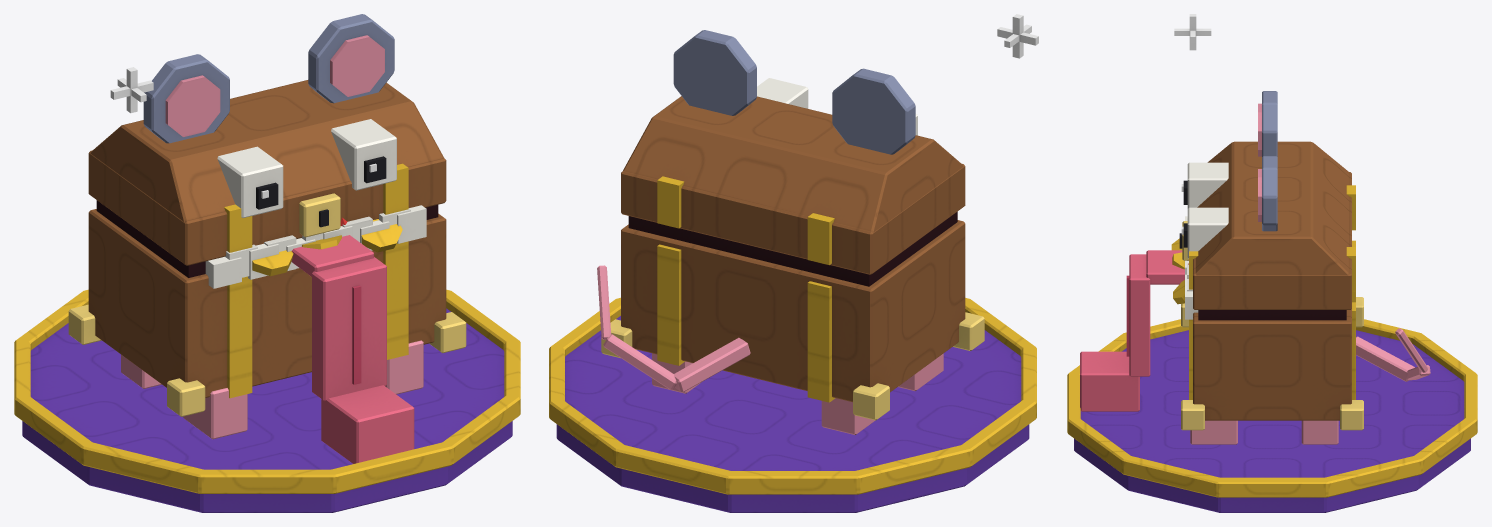
Rendered from RatMimic.fbx.
3 renders of one model, left to right at view 1: azimuth 30°, elevation 25°; view 2: azimuth 150°, elevation 25°; view 3: azimuth 270°, elevation 25°, orthographic. The views are drawn at different scales.
Visible parts, largest first — view 1: Art_RatMimic_Stand, Art_RatMimic_Body, Art_RatMimic_Lid, Art_RatMimic_Tongue, Art_RatMimic_EarR, Art_RatMimic_EarL, Art_RatMimic_EyeR, Art_RatMimic_EyeL, Art_RatMimic_LegFL, Art_RatMimic_LegFR, Art_RatMimic_LegBL; view 2: Art_RatMimic_Stand, Art_RatMimic_Body, Art_RatMimic_Lid, Art_RatMimic_EarL, Art_RatMimic_EarR, Art_RatMimic_Tail, Art_RatMimic_LegBL, Art_RatMimic_EyeR, Art_RatMimic_LegFL; view 3: Art_RatMimic_Stand, Art_RatMimic_Lid, Art_RatMimic_Body, Art_RatMimic_Tongue, Art_RatMimic_Tail, Art_RatMimic_EyeL, Art_RatMimic_EyeR, Art_RatMimic_EarR, Art_RatMimic_EarL, Art_RatMimic_LegFR, Art_RatMimic_LegBR.
Boxes of the visible parts, bbox=[...] form: Art_RatMimic_Stand: bbox=[14, 67, 520, 512]; Art_RatMimic_Body: bbox=[68, 200, 466, 416]; Art_RatMimic_Lid: bbox=[88, 80, 446, 277]; Art_RatMimic_Tongue: bbox=[291, 235, 414, 463]; Art_RatMimic_EarR: bbox=[308, 14, 394, 103]; Art_RatMimic_EarL: bbox=[143, 54, 229, 143]; Art_RatMimic_EyeR: bbox=[331, 119, 396, 190]; Art_RatMimic_EyeL: bbox=[217, 146, 283, 217]; Art_RatMimic_LegFL: bbox=[183, 388, 247, 439]; Art_RatMimic_LegFR: bbox=[385, 340, 423, 394]; Art_RatMimic_LegBL: bbox=[121, 354, 161, 388]; Art_RatMimic_Stand: bbox=[549, 14, 1038, 512]; Art_RatMimic_Body: bbox=[601, 211, 984, 420]; Art_RatMimic_Lid: bbox=[621, 96, 965, 274]; Art_RatMimic_EarL: bbox=[832, 68, 915, 154]; Art_RatMimic_EarR: bbox=[673, 30, 756, 115]; Art_RatMimic_Tail: bbox=[597, 265, 750, 392]; Art_RatMimic_LegBL: bbox=[821, 398, 875, 435]; Art_RatMimic_EyeR: bbox=[757, 78, 808, 108]; Art_RatMimic_LegFL: bbox=[898, 353, 943, 391]; Art_RatMimic_Stand: bbox=[1067, 14, 1477, 512]; Art_RatMimic_Lid: bbox=[1179, 141, 1355, 309]; Art_RatMimic_Body: bbox=[1171, 216, 1363, 430]; Art_RatMimic_Tongue: bbox=[1080, 250, 1184, 411]; Art_RatMimic_Tail: bbox=[1356, 328, 1430, 381]; Art_RatMimic_EyeL: bbox=[1181, 162, 1228, 208]; Art_RatMimic_EyeR: bbox=[1181, 207, 1228, 258]; Art_RatMimic_EarR: bbox=[1258, 156, 1277, 231]; Art_RatMimic_EarL: bbox=[1258, 91, 1277, 156]; Art_RatMimic_LegFR: bbox=[1190, 420, 1237, 444]; Art_RatMimic_LegBR: bbox=[1301, 420, 1338, 444].
Bounding box in the file's own units: 3.09 × 2.84 × 3.09.
